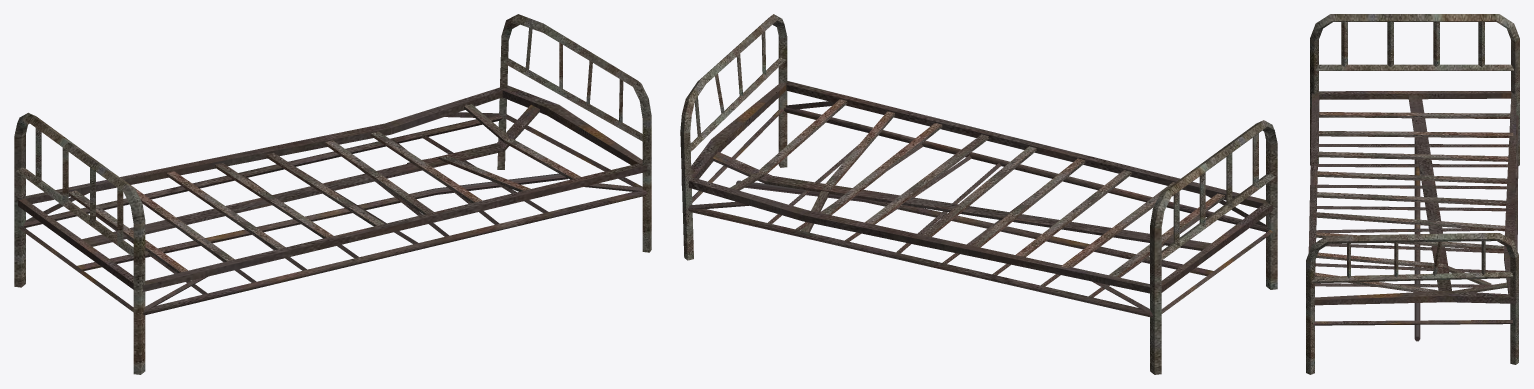
The model's file is prison_bedframe001a.glb.
The picture shows the model from 3 angles, left to right: view 1: azimuth 30°, elevation 25°; view 2: azimuth 150°, elevation 25°; view 3: azimuth 270°, elevation 25°; orthographic projection. The views are drawn at different scales.
Visible parts, largest first — view 1: 0_prison_objects001; view 2: 0_prison_objects001; view 3: 0_prison_objects001.
Boxes of the visible parts, x1,y1,x2,y2 form: 0_prison_objects001: [14, 14, 651, 374]; 0_prison_objects001: [680, 14, 1277, 374]; 0_prison_objects001: [1306, 14, 1519, 374].
Size of the model in its own units: 2.26 by 0.7543 by 0.965.
1 material, 1 textured.
